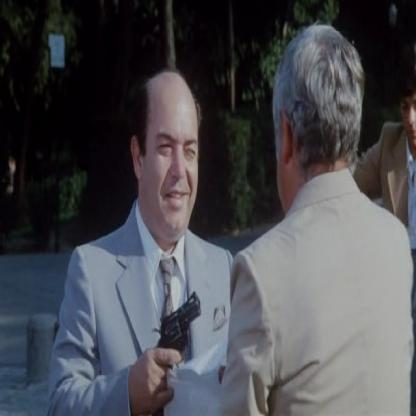gun: (155, 286, 206, 356)
